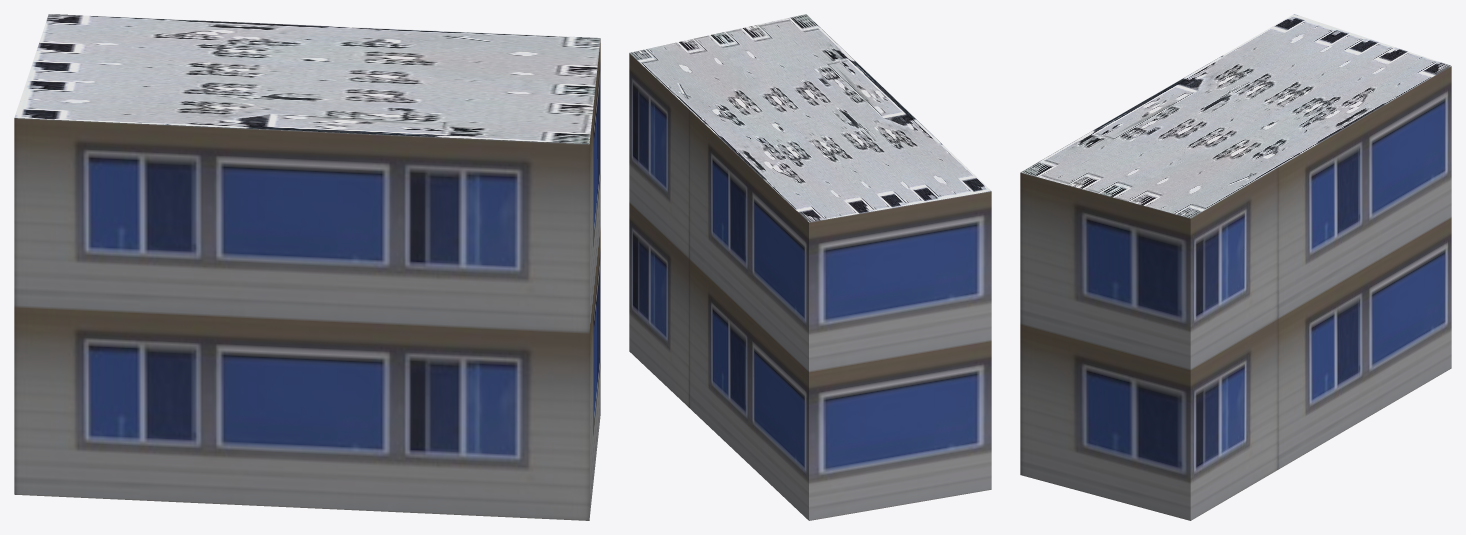
The model's file is ResTex__4510.fbx.
3 views of the same model, side by side, from view 1: azimuth 30°, elevation 25°; view 2: azimuth 150°, elevation 25°; view 3: azimuth 270°, elevation 25° (orthographic). The views are drawn at different scales.
Parts seen in each view (by area): view 1: CityEngineMaterial_23_m, CityEngineMaterial_4_m; view 2: CityEngineMaterial_23_m, CityEngineMaterial_4_m; view 3: CityEngineMaterial_23_m, CityEngineMaterial_4_m.
Boxes of the visible parts, left/top/right/bottom form: CityEngineMaterial_23_m: left=14, top=39, right=600, bottom=520; CityEngineMaterial_4_m: left=14, top=14, right=600, bottom=144; CityEngineMaterial_23_m: left=629, top=53, right=991, bottom=520; CityEngineMaterial_4_m: left=629, top=14, right=991, bottom=222; CityEngineMaterial_23_m: left=1020, top=66, right=1451, bottom=520; CityEngineMaterial_4_m: left=1020, top=14, right=1451, bottom=218.
Bounding box in the file's own units: 8.69 × 6 × 7.75.
2 materials, 2 textured.
